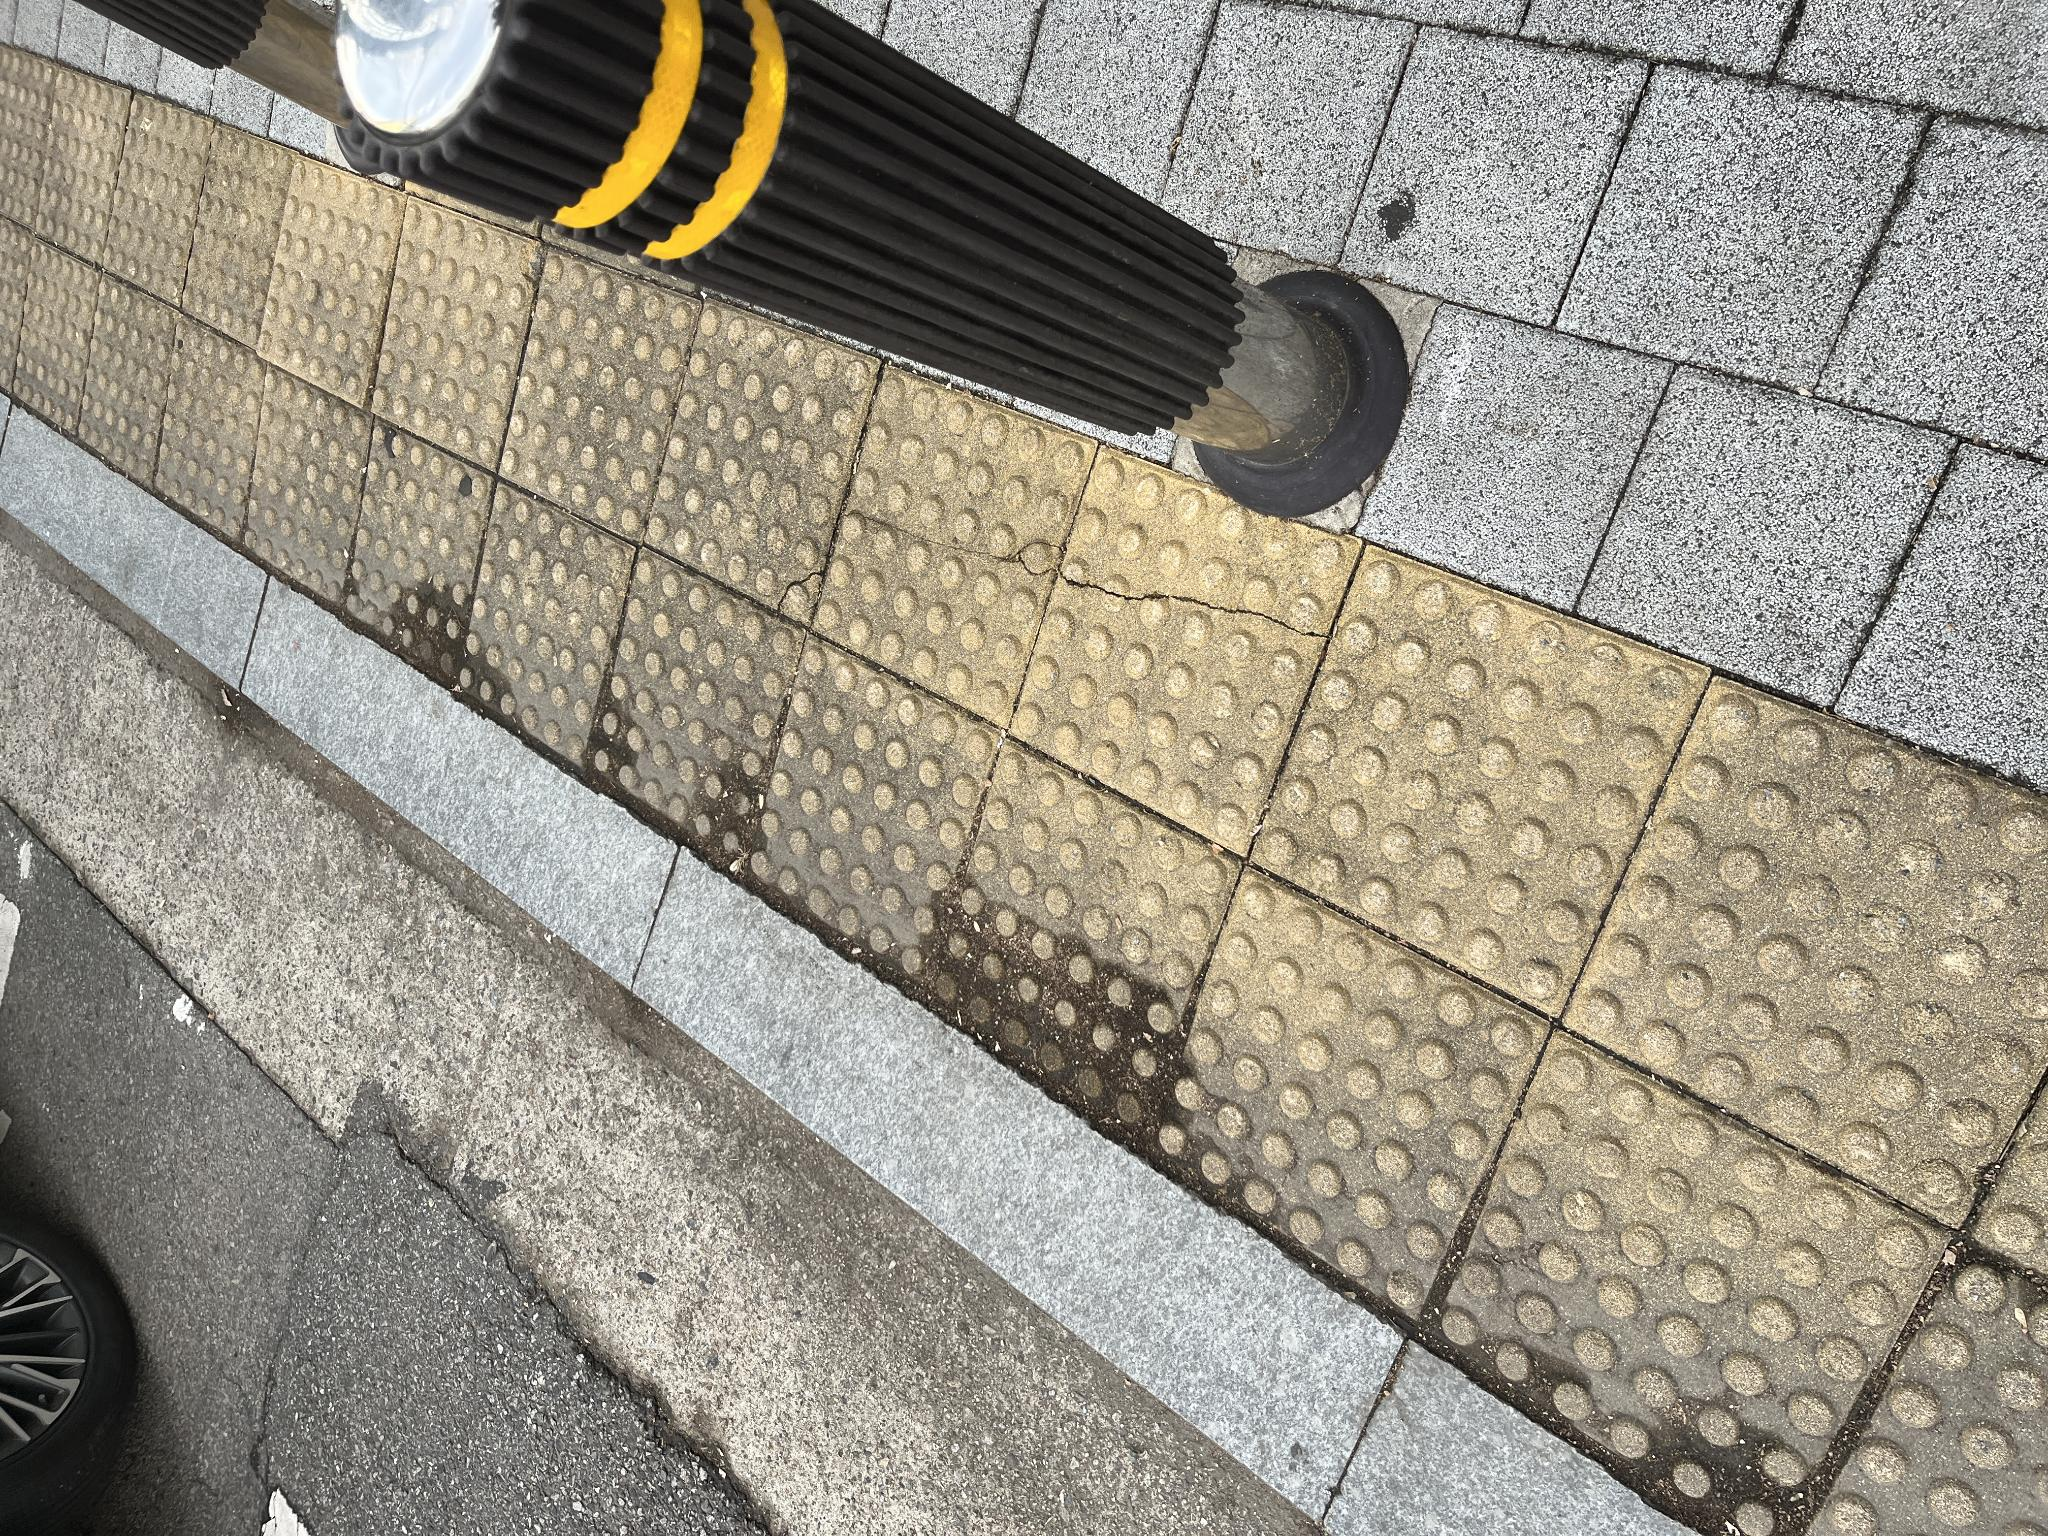Stop block broken: (682, 1010, 1085, 1362)
Stop block normal: (218, 1155, 664, 1536), (534, 1252, 989, 1536), (400, 931, 792, 1236), (553, 745, 895, 995)
